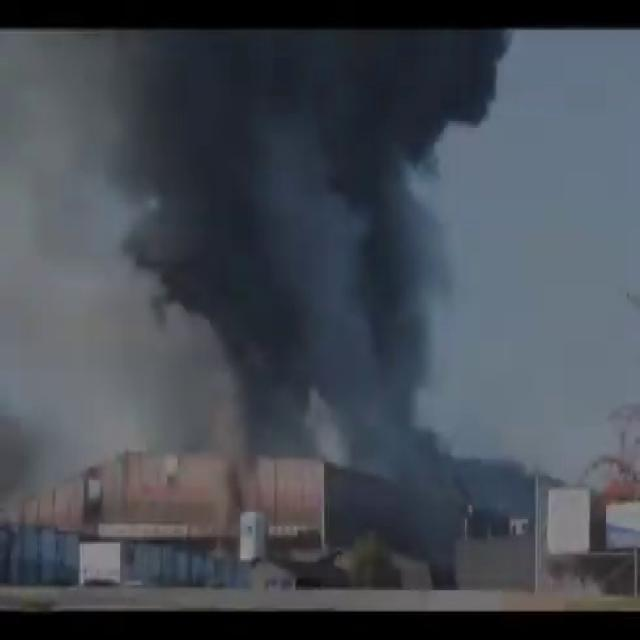Smoke: (0, 30, 509, 536)
